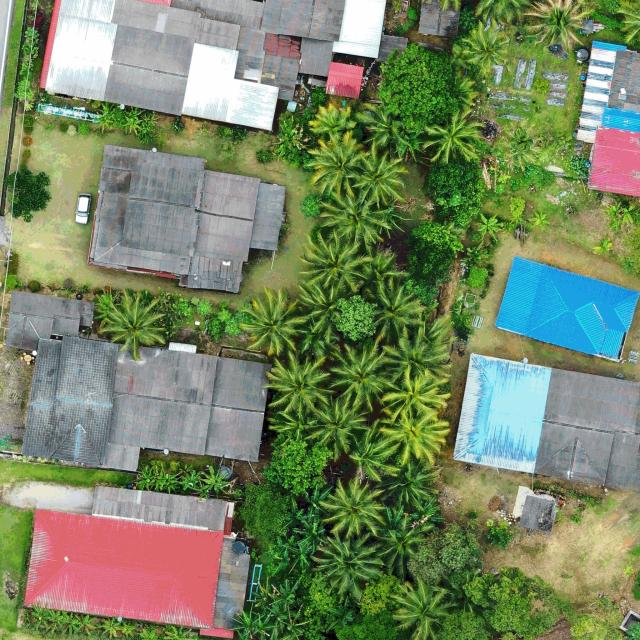Tree: (377, 41, 477, 138), (462, 564, 562, 634), (94, 287, 166, 362), (262, 346, 334, 418), (404, 218, 464, 304), (312, 528, 383, 600), (238, 285, 309, 357), (327, 340, 397, 413), (364, 505, 437, 575), (381, 318, 453, 387), (296, 228, 369, 296), (319, 181, 384, 256), (377, 407, 451, 471), (405, 520, 479, 582), (303, 132, 370, 198), (266, 433, 334, 494), (320, 476, 387, 536), (426, 159, 486, 225), (307, 391, 369, 454), (389, 577, 452, 639), (362, 278, 422, 342), (381, 370, 450, 424), (421, 111, 487, 166), (355, 144, 411, 208), (524, 0, 590, 52), (294, 279, 348, 335), (2, 165, 52, 222), (456, 26, 510, 73), (348, 427, 394, 481), (334, 293, 377, 340), (309, 102, 356, 141), (268, 407, 315, 441), (292, 514, 331, 554), (230, 602, 271, 640), (267, 604, 310, 640), (474, 0, 534, 25), (268, 534, 297, 578), (270, 576, 306, 611), (274, 116, 302, 161), (199, 464, 232, 498), (298, 487, 332, 517), (603, 201, 638, 229), (472, 212, 503, 243), (458, 239, 493, 266), (326, 596, 353, 630), (155, 466, 182, 494), (94, 102, 115, 135), (136, 464, 160, 492), (31, 601, 51, 634), (178, 468, 204, 493), (97, 616, 123, 638), (528, 208, 552, 230), (75, 613, 98, 635), (61, 612, 80, 636), (48, 609, 66, 634), (124, 105, 148, 123), (122, 116, 144, 135)
